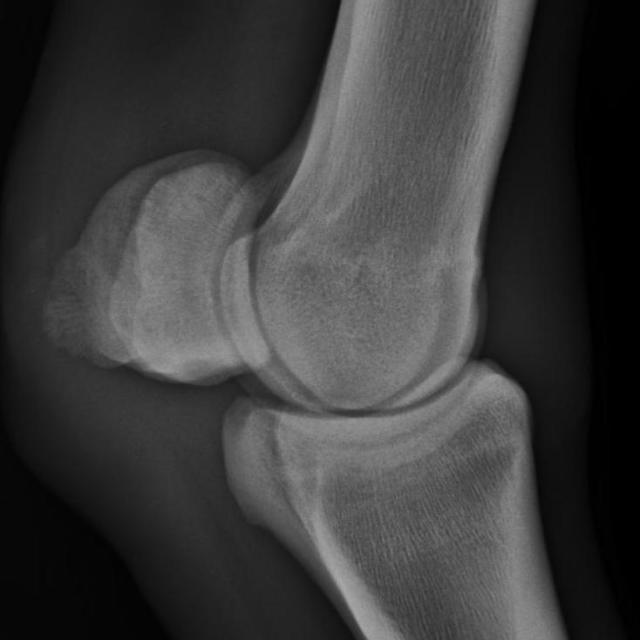bone remodeling: (27, 181, 181, 387)
